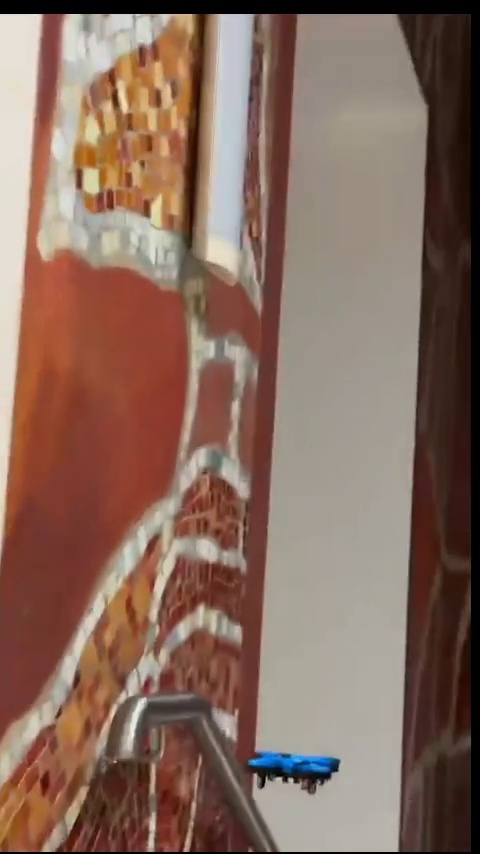drone: (244, 747, 338, 789)
